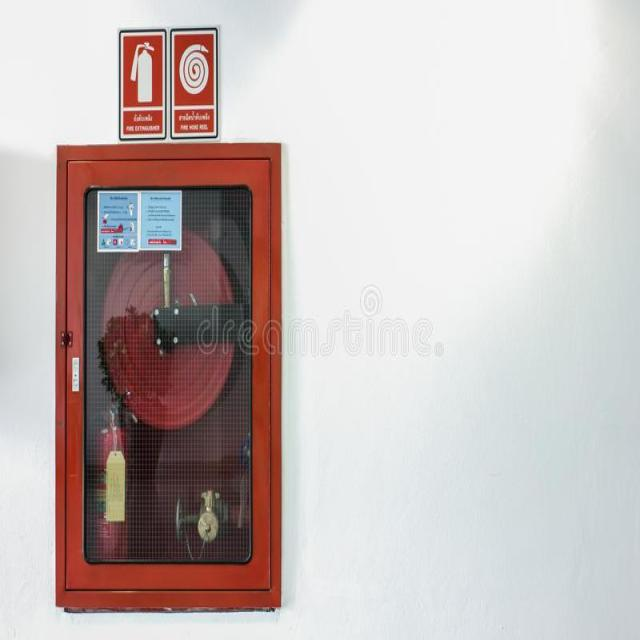fire_extinguisher: (77, 404, 139, 596)
